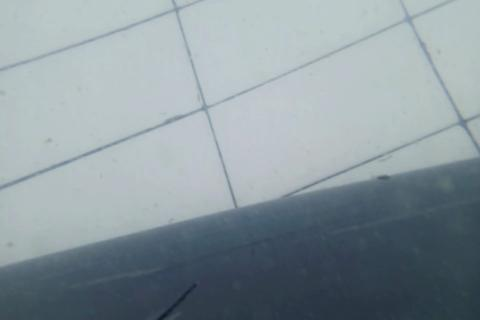keretakan: (154, 282, 195, 320)
